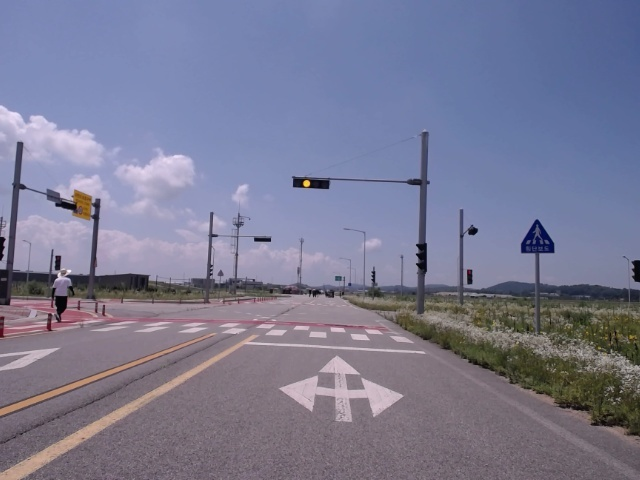orange_4: (293, 177, 330, 189)
